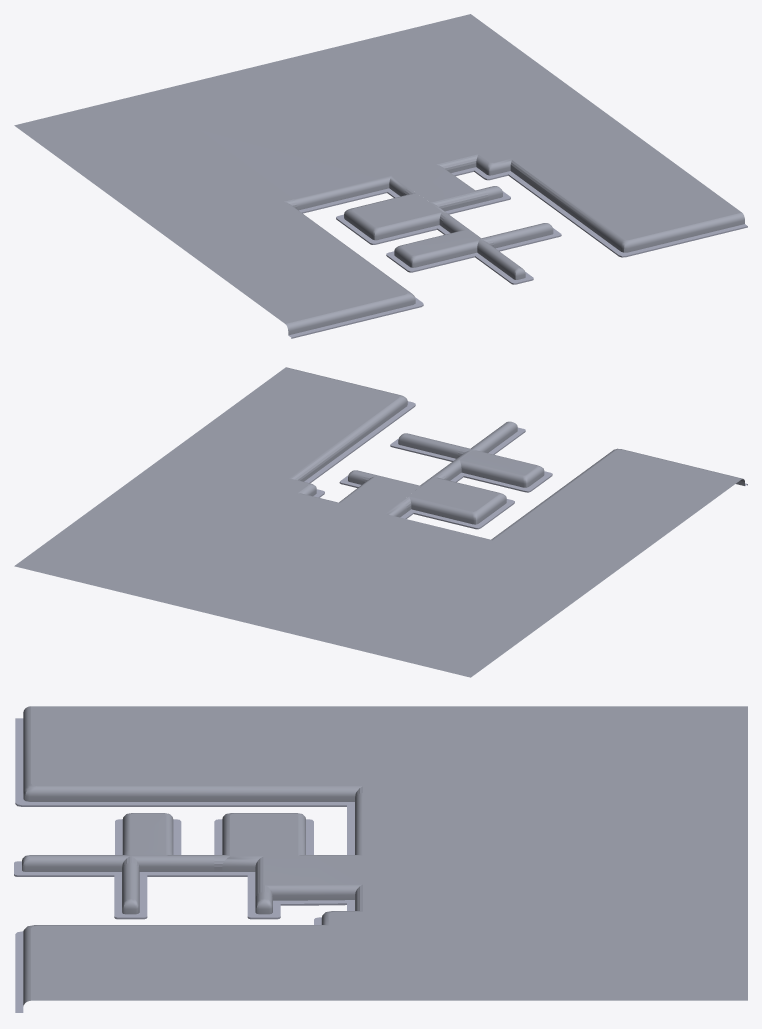
The picture shows the model from 3 angles, top to bottom: view 1: azimuth 30°, elevation 25°; view 2: azimuth 150°, elevation 25°; view 3: azimuth 270°, elevation 25°; orthographic projection. The views are drawn at different scales.
Parts seen in each view (by area): view 1: L40; view 2: L40; view 3: L40.
Part boxes in pixels (left/top/right/bottom): L40: left=14, top=14, right=747, bottom=338; L40: left=14, top=367, right=747, bottom=677; L40: left=14, top=706, right=747, bottom=1012.
Size of the model in its own units: 2626 by 58.34 by 2765.
